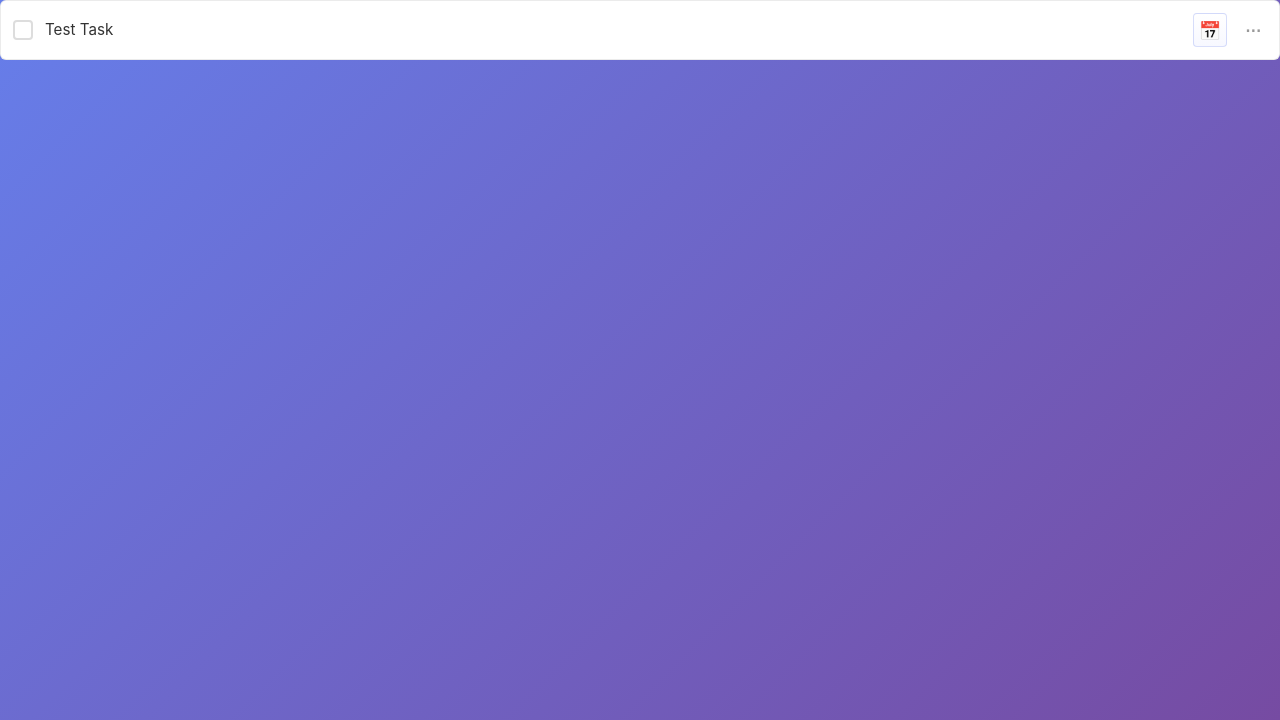
Scenario: Task Component › Dropdown Menu › opens menu when button is clicked
The image size is (1280, 720).
Click the button titled "More actions": (1253, 30) [1239, 16, 1267, 44]
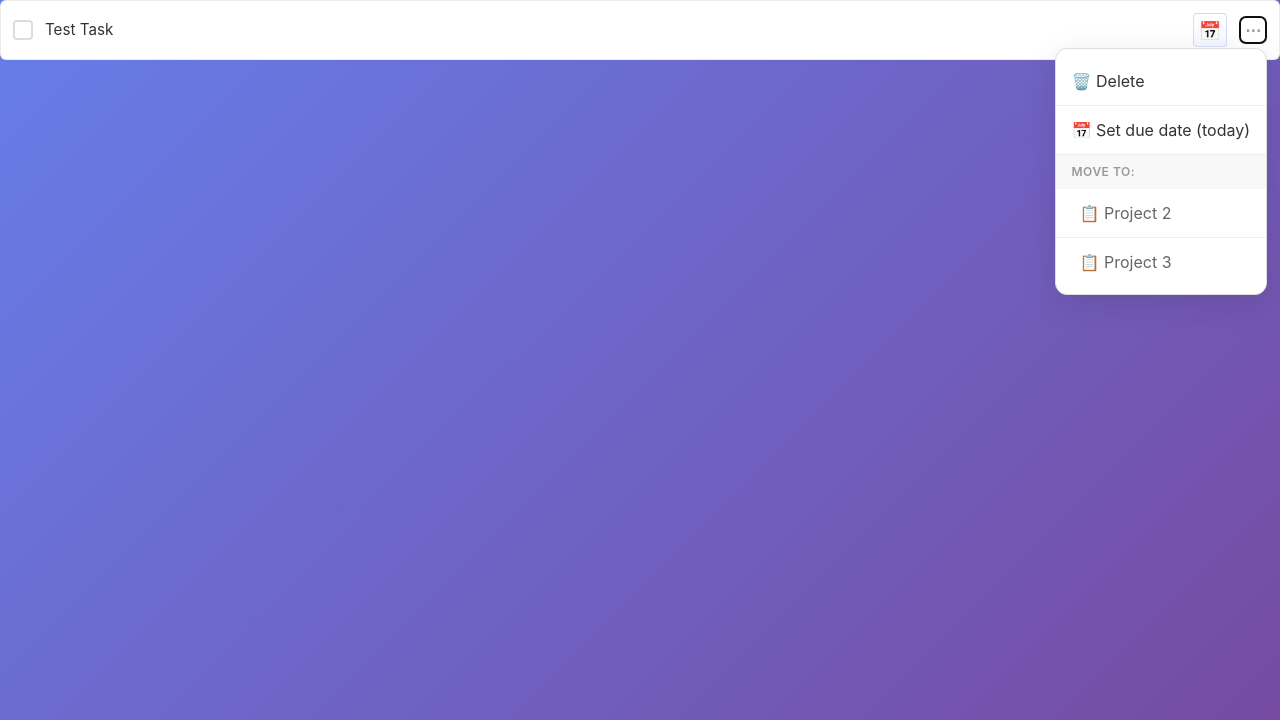
expect the button "🗑️ Delete" is shown: met, box [1056, 57, 1266, 106]
